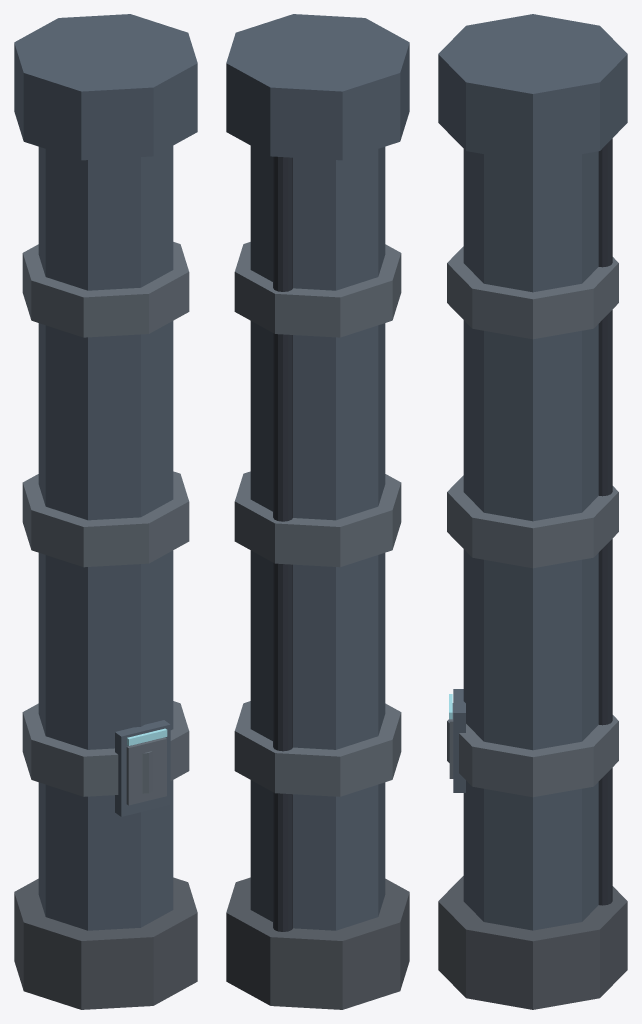
File: Lab_Pillar_A.fbx
3 views of the same model, side by side, from view 1: azimuth 30°, elevation 25°; view 2: azimuth 150°, elevation 25°; view 3: azimuth 270°, elevation 25° (orthographic).
Parts seen in each view (by area): view 1: Lab_Pillar_Heavy; view 2: Lab_Pillar_Heavy; view 3: Lab_Pillar_Heavy.
Boxes of the visible parts, x1=… form: Lab_Pillar_Heavy: x1=14, y1=14, x2=197, y2=1009; Lab_Pillar_Heavy: x1=226, y1=14, x2=409, y2=1009; Lab_Pillar_Heavy: x1=438, y1=14, x2=627, y2=1009.
Size of the model in its own units: 1.5 by 8 by 1.5.
